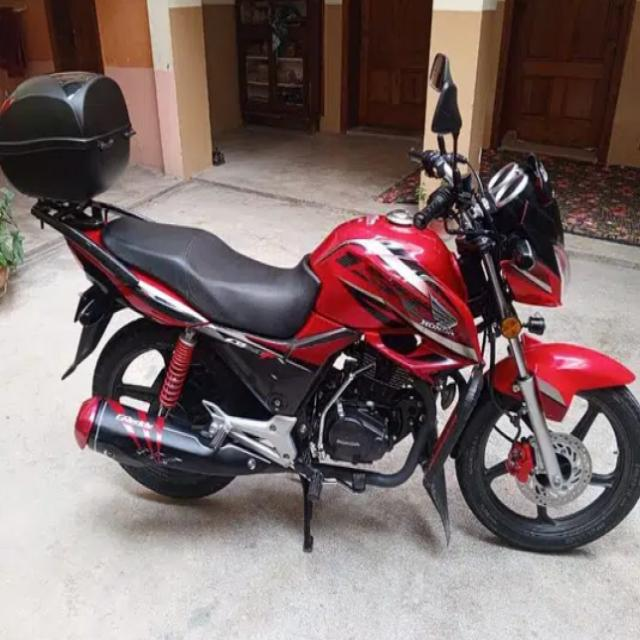Bike: (0, 87, 640, 571)
